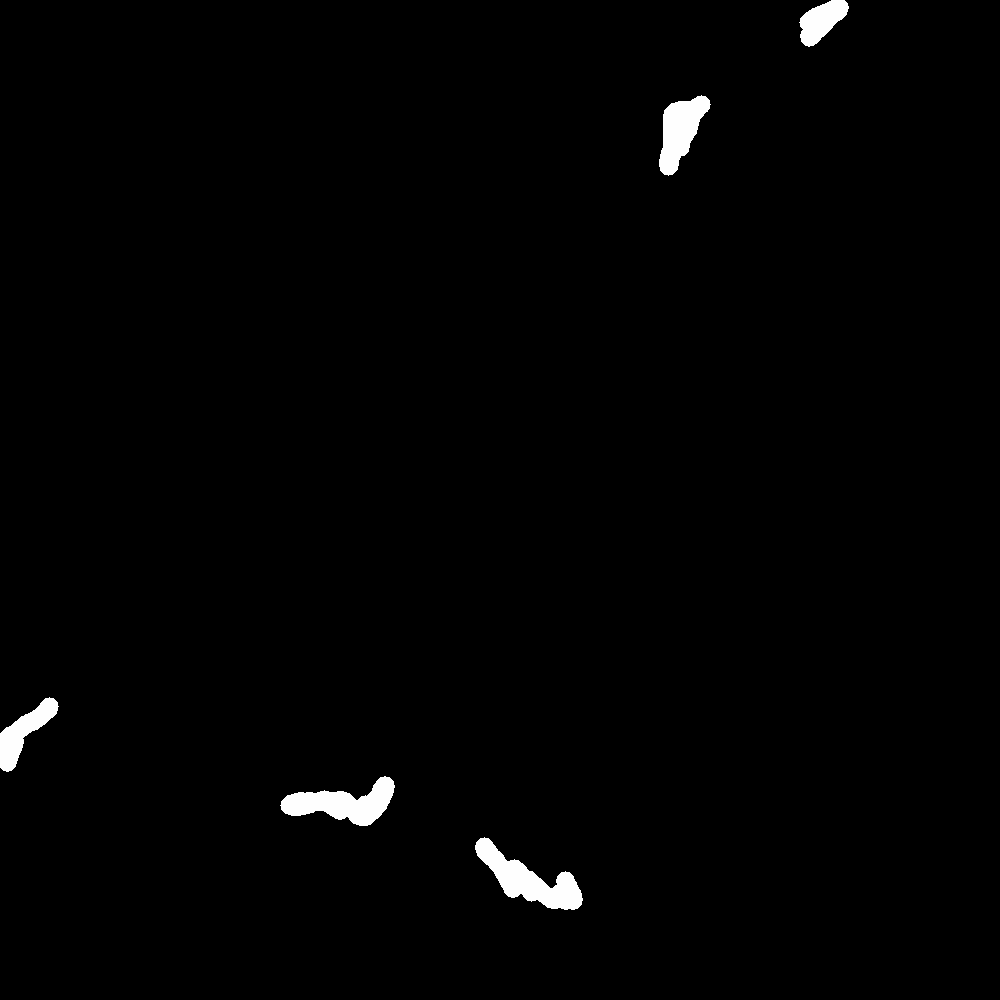illegal: (324, 777, 563, 932), (659, 96, 711, 179), (804, 1, 857, 63)
